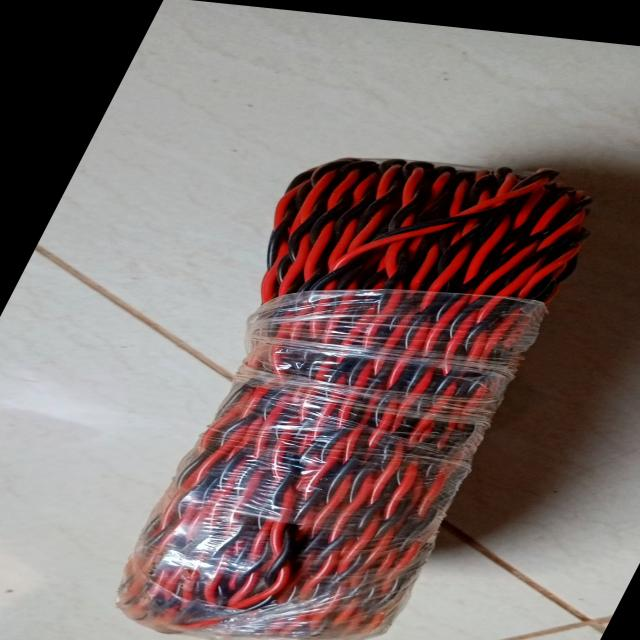Connecting Wires: (43, 142, 640, 640)
